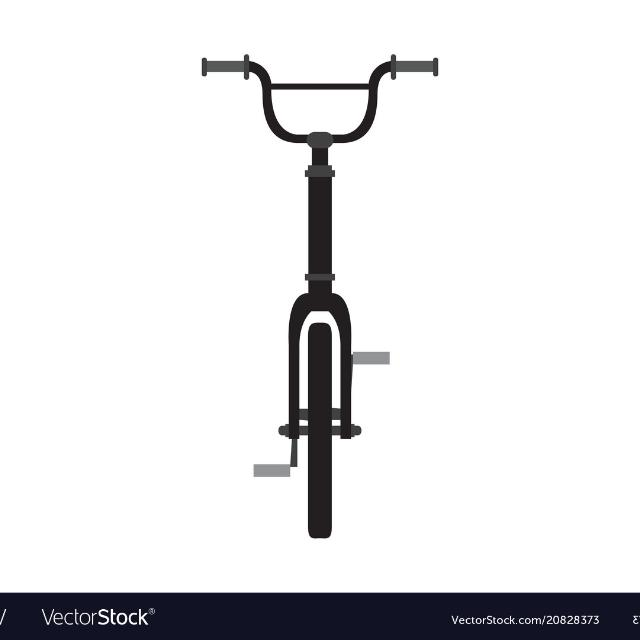obstacle: (181, 26, 464, 552)
